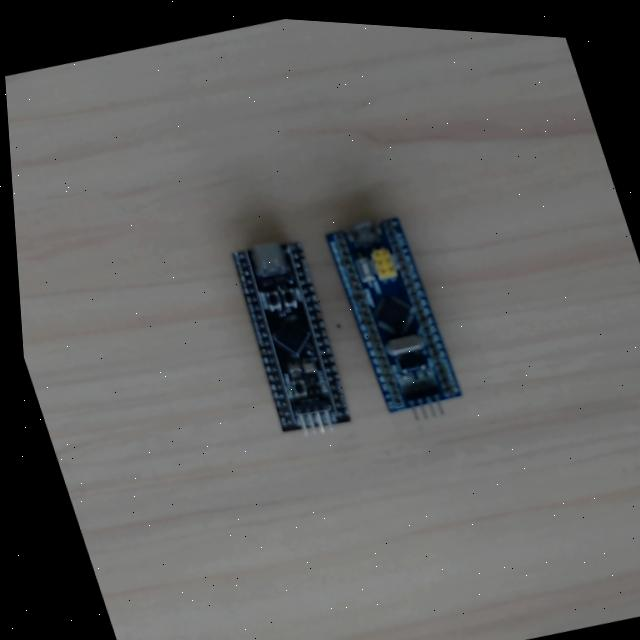STM32-Blackpill: (231, 233, 349, 436)
STM32-Bluepill: (323, 209, 460, 419)
